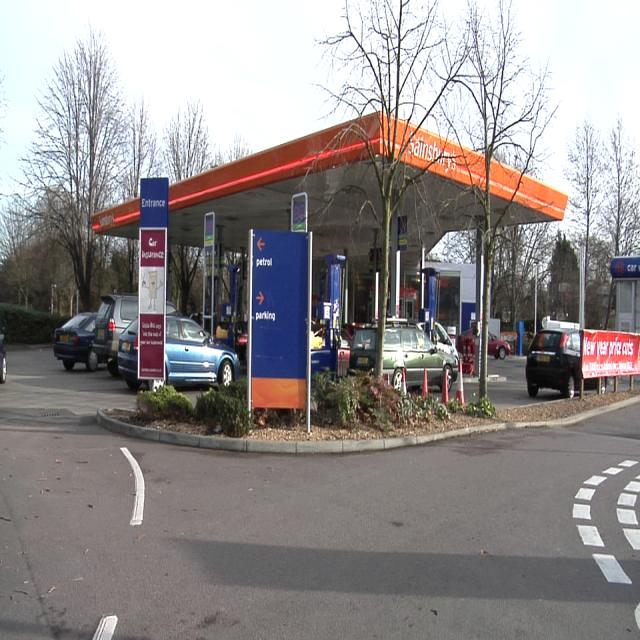Car: (165, 317, 236, 382), (384, 327, 456, 387), (526, 330, 581, 398), (95, 293, 139, 377), (54, 313, 99, 372)
Road: (0, 405, 640, 638)
Tree: (321, 0, 555, 398), (0, 32, 250, 312), (568, 120, 640, 327), (492, 225, 560, 319), (170, 243, 200, 313)
